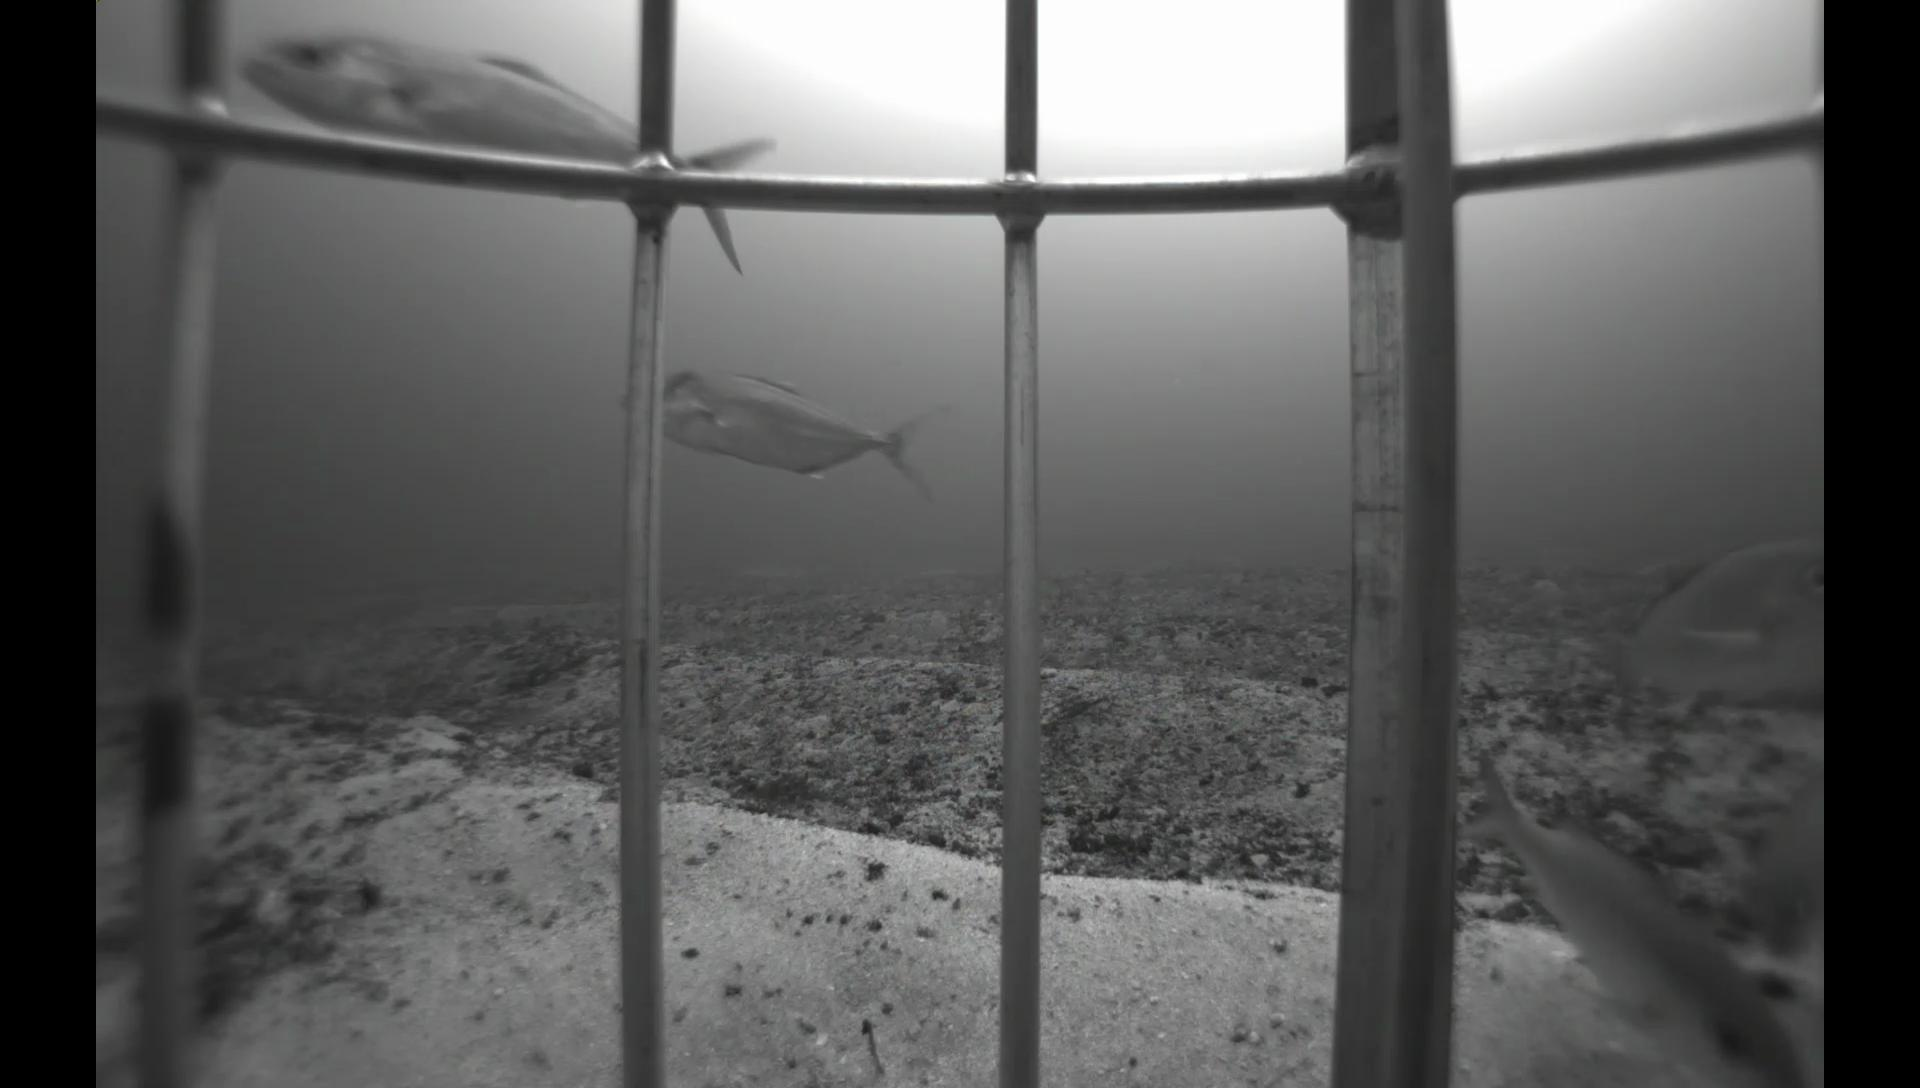RHOMBOPLITESAURORUBENS-170152001: (1455, 745, 1811, 1088), (1575, 526, 1822, 717), (1735, 764, 1826, 968)
SERIOLAFASCIATA-170113103: (232, 18, 782, 280), (604, 353, 975, 516)
